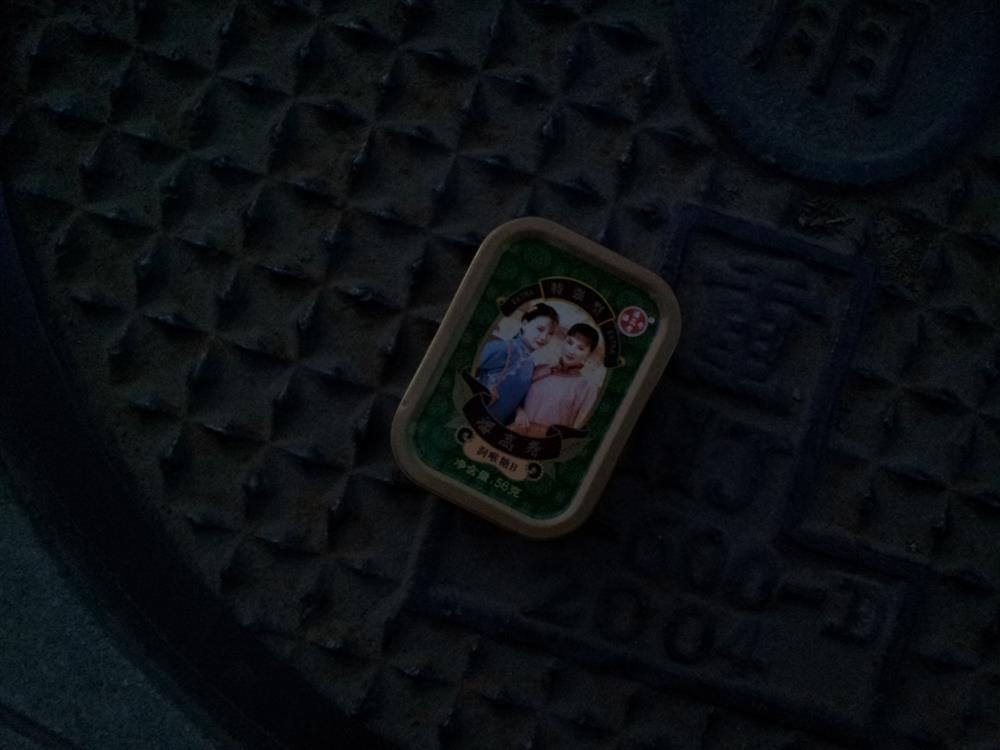pangaoshou: (382, 207, 690, 529)
